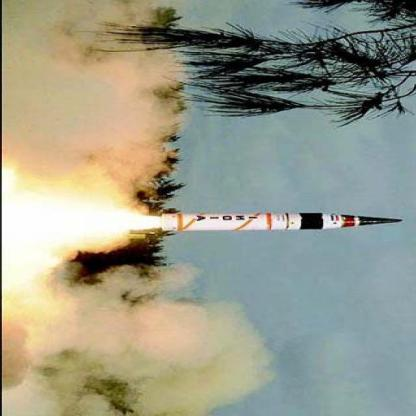MIL_TBM: (128, 209, 412, 232)
